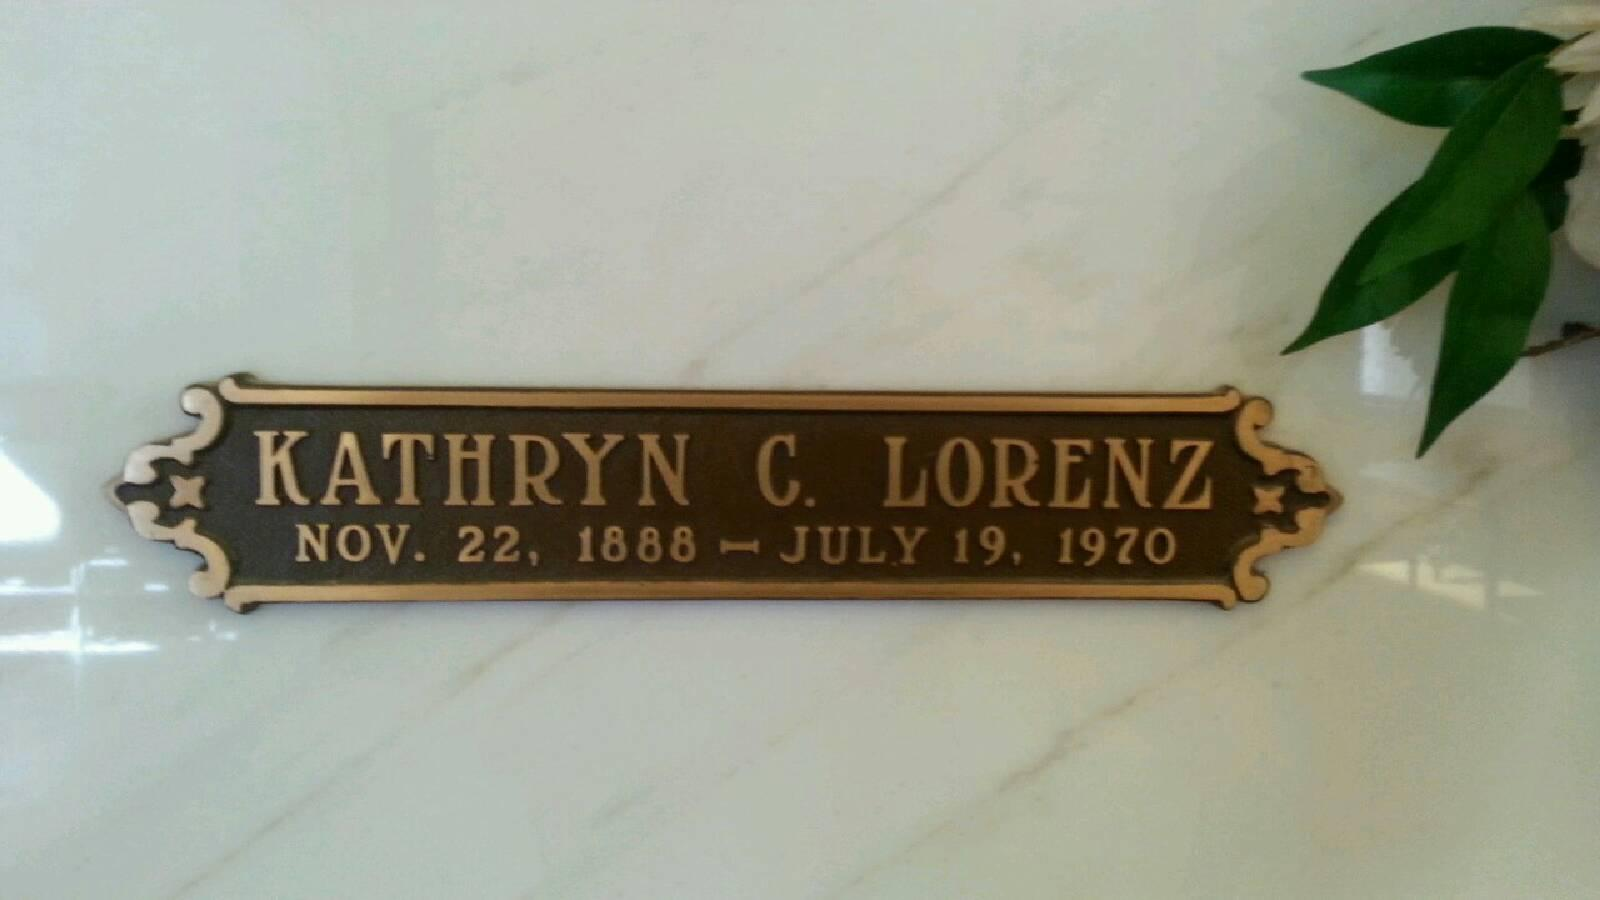plaque: (97, 373, 1352, 616)
